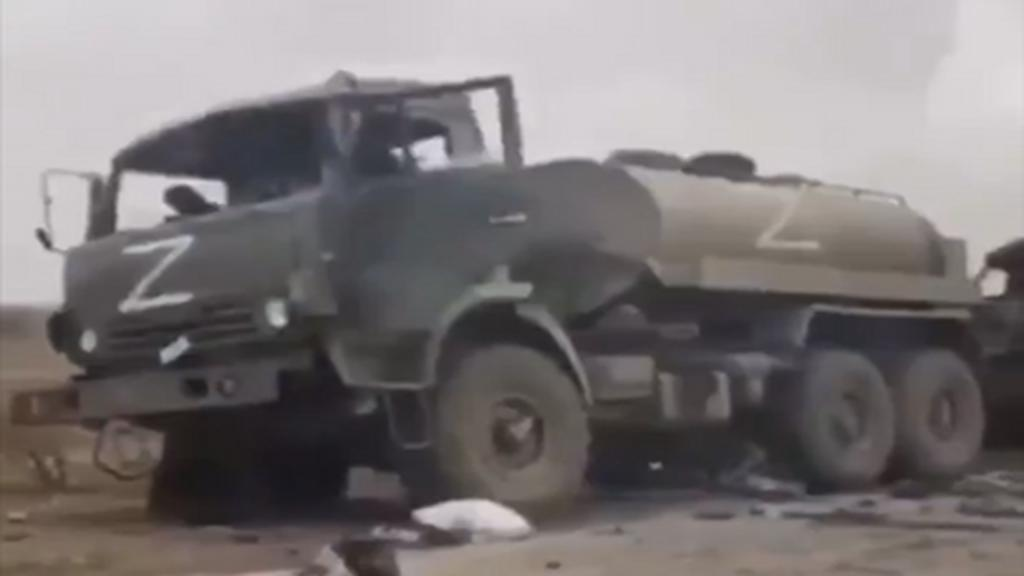TRUCK: (34, 58, 986, 530)
